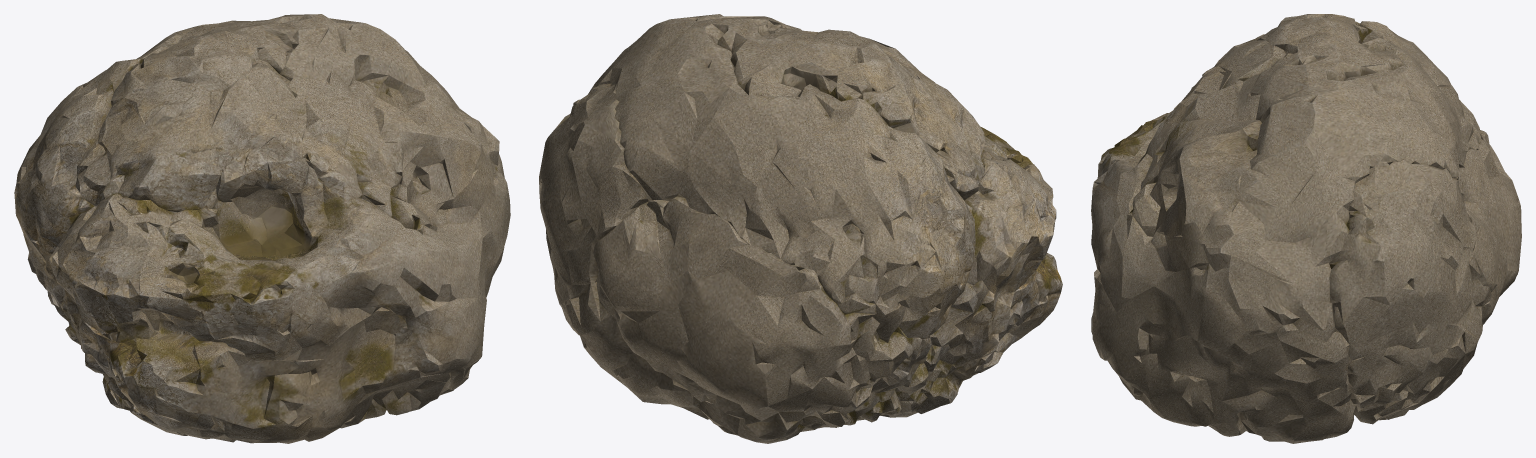
The model's file is risco_mole.glb.
3 views of the same model, side by side, from view 1: azimuth 30°, elevation 25°; view 2: azimuth 150°, elevation 25°; view 3: azimuth 270°, elevation 25° (orthographic). The views are drawn at different scales.
Bounding box in the file's own units: 1.9 × 1.45 × 1.68.
1 material, 1 textured.
